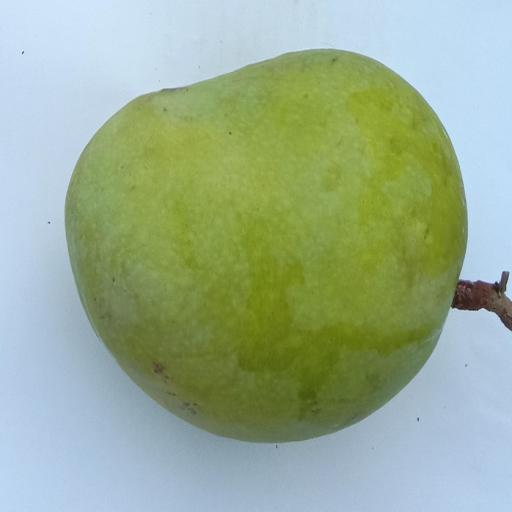mango-unripe: (43, 24, 483, 481)
